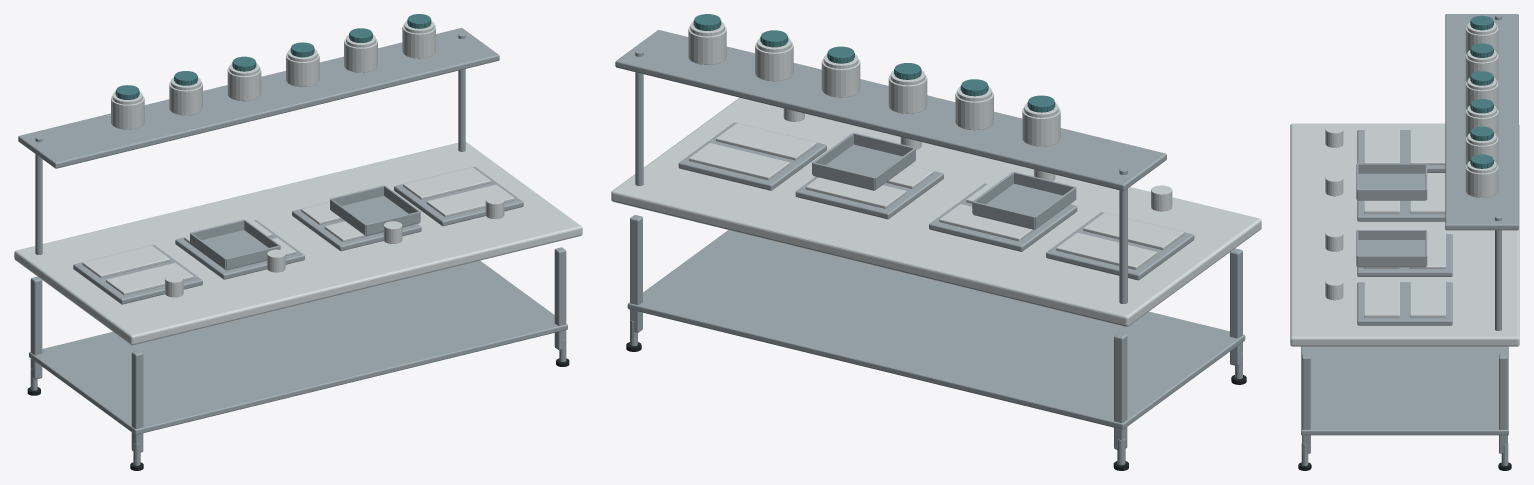
The model's file is SF_MealAssemblyIsland.fbx.
The picture shows the model from 3 angles, left to right: view 1: azimuth 30°, elevation 25°; view 2: azimuth 150°, elevation 25°; view 3: azimuth 270°, elevation 25°; orthographic projection. The views are drawn at different scales.
Parts seen in each view (by area): view 1: SF_MealAssemblyIsland; view 2: SF_MealAssemblyIsland; view 3: SF_MealAssemblyIsland.
Boxes of the visible parts, x1=… form: SF_MealAssemblyIsland: x1=14, y1=14, x2=582, y2=470; SF_MealAssemblyIsland: x1=611, y1=14, x2=1261, y2=470; SF_MealAssemblyIsland: x1=1290, y1=14, x2=1519, y2=470.
Bounding box in the file's own units: 310 × 191 × 140.
